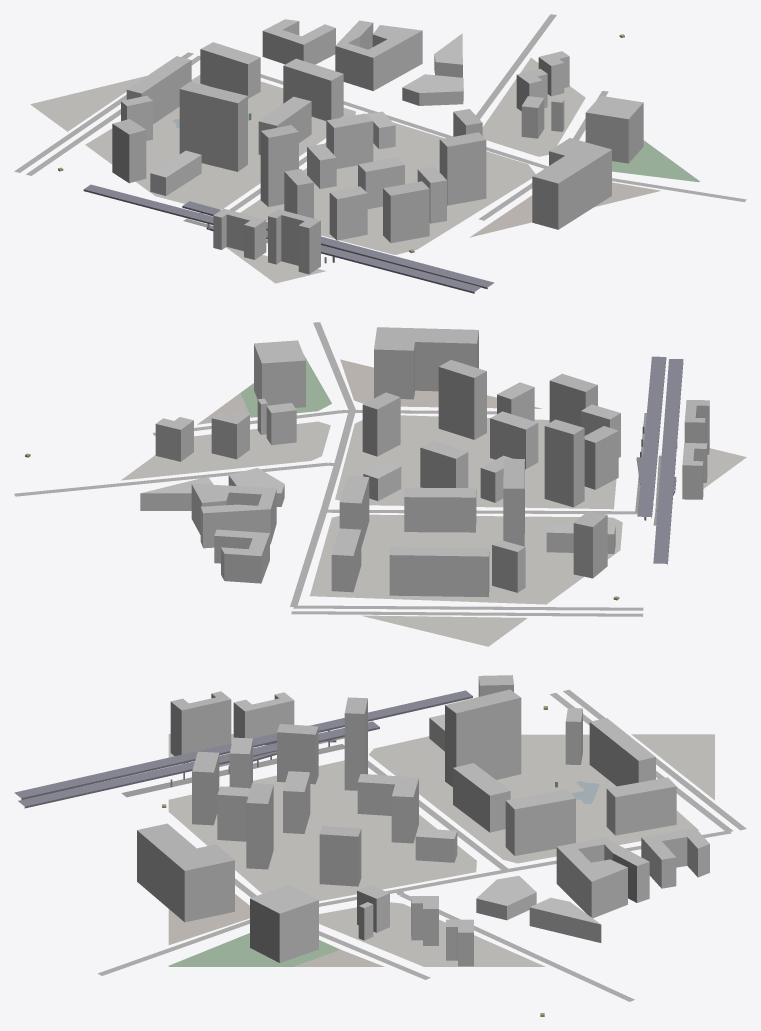
The picture shows the model from 3 angles, top to bottom: view 1: azimuth 30°, elevation 25°; view 2: azimuth 150°, elevation 25°; view 3: azimuth 270°, elevation 25°; orthographic projection. The views are drawn at different scales.
Bounding box in the file's own units: 703 × 79.81 × 671.
